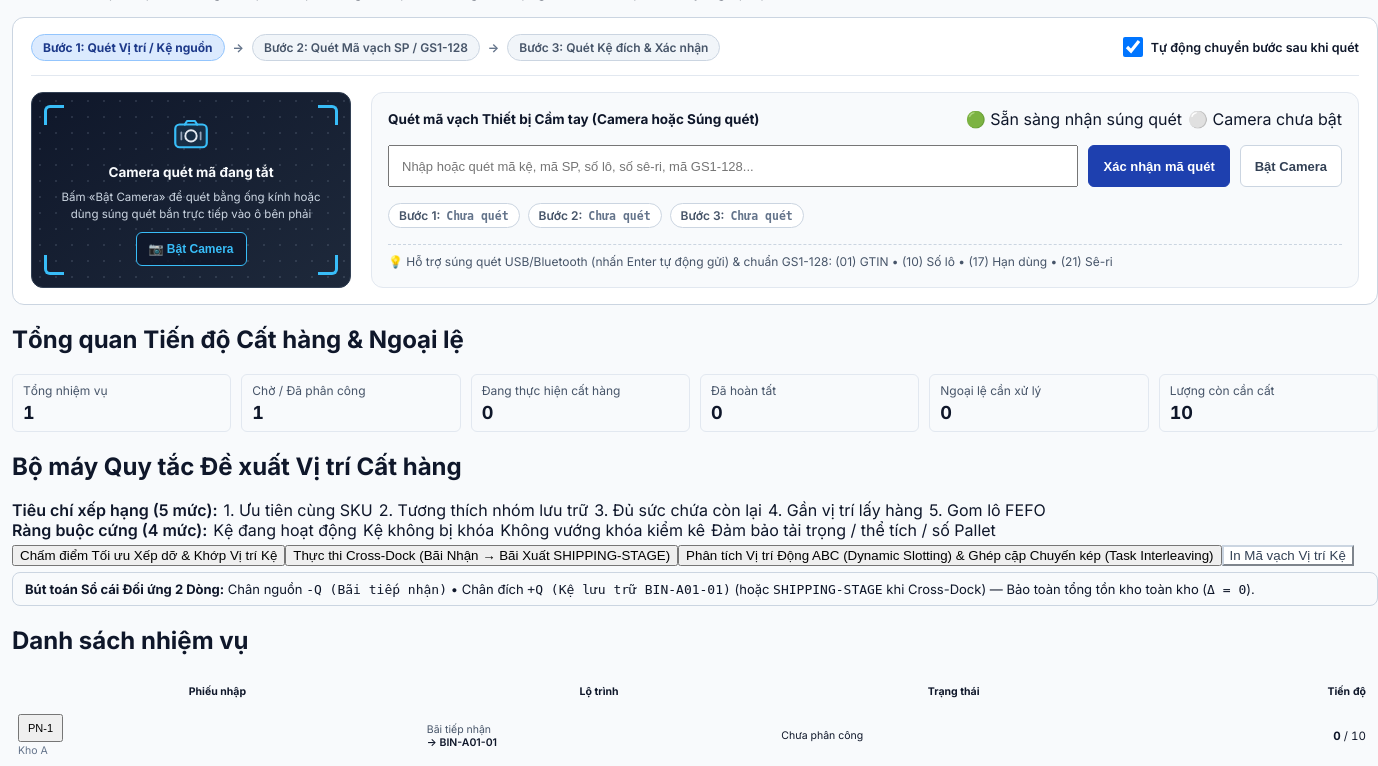
Test: Cất hàng › shows execution controls only with putaway.execute
(page scrolled)
Click the button "PN-1".
click(41, 728)  # box [18,714,63,742]
(page scrolled)
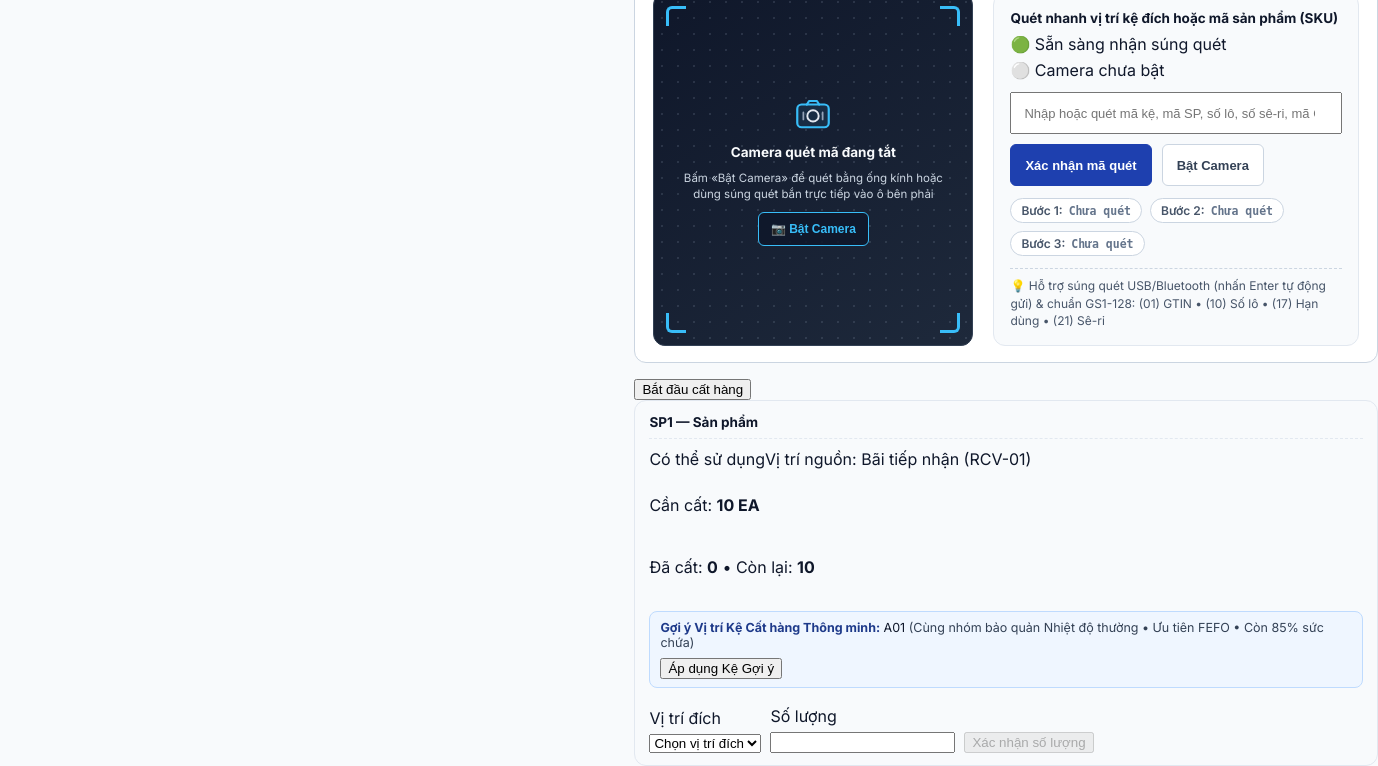
Result: the button "Bắt đầu cất hàng" is shown at [634,379,751,400]
Result: the dropdown named "Vị trí đích SP1" is shown at [649,734,761,753]
